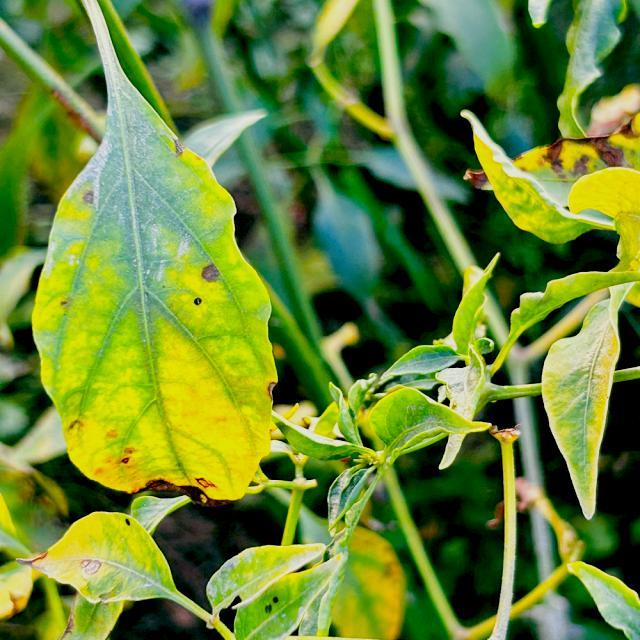Bercak Daun Serkospora: (29, 0, 278, 504)
